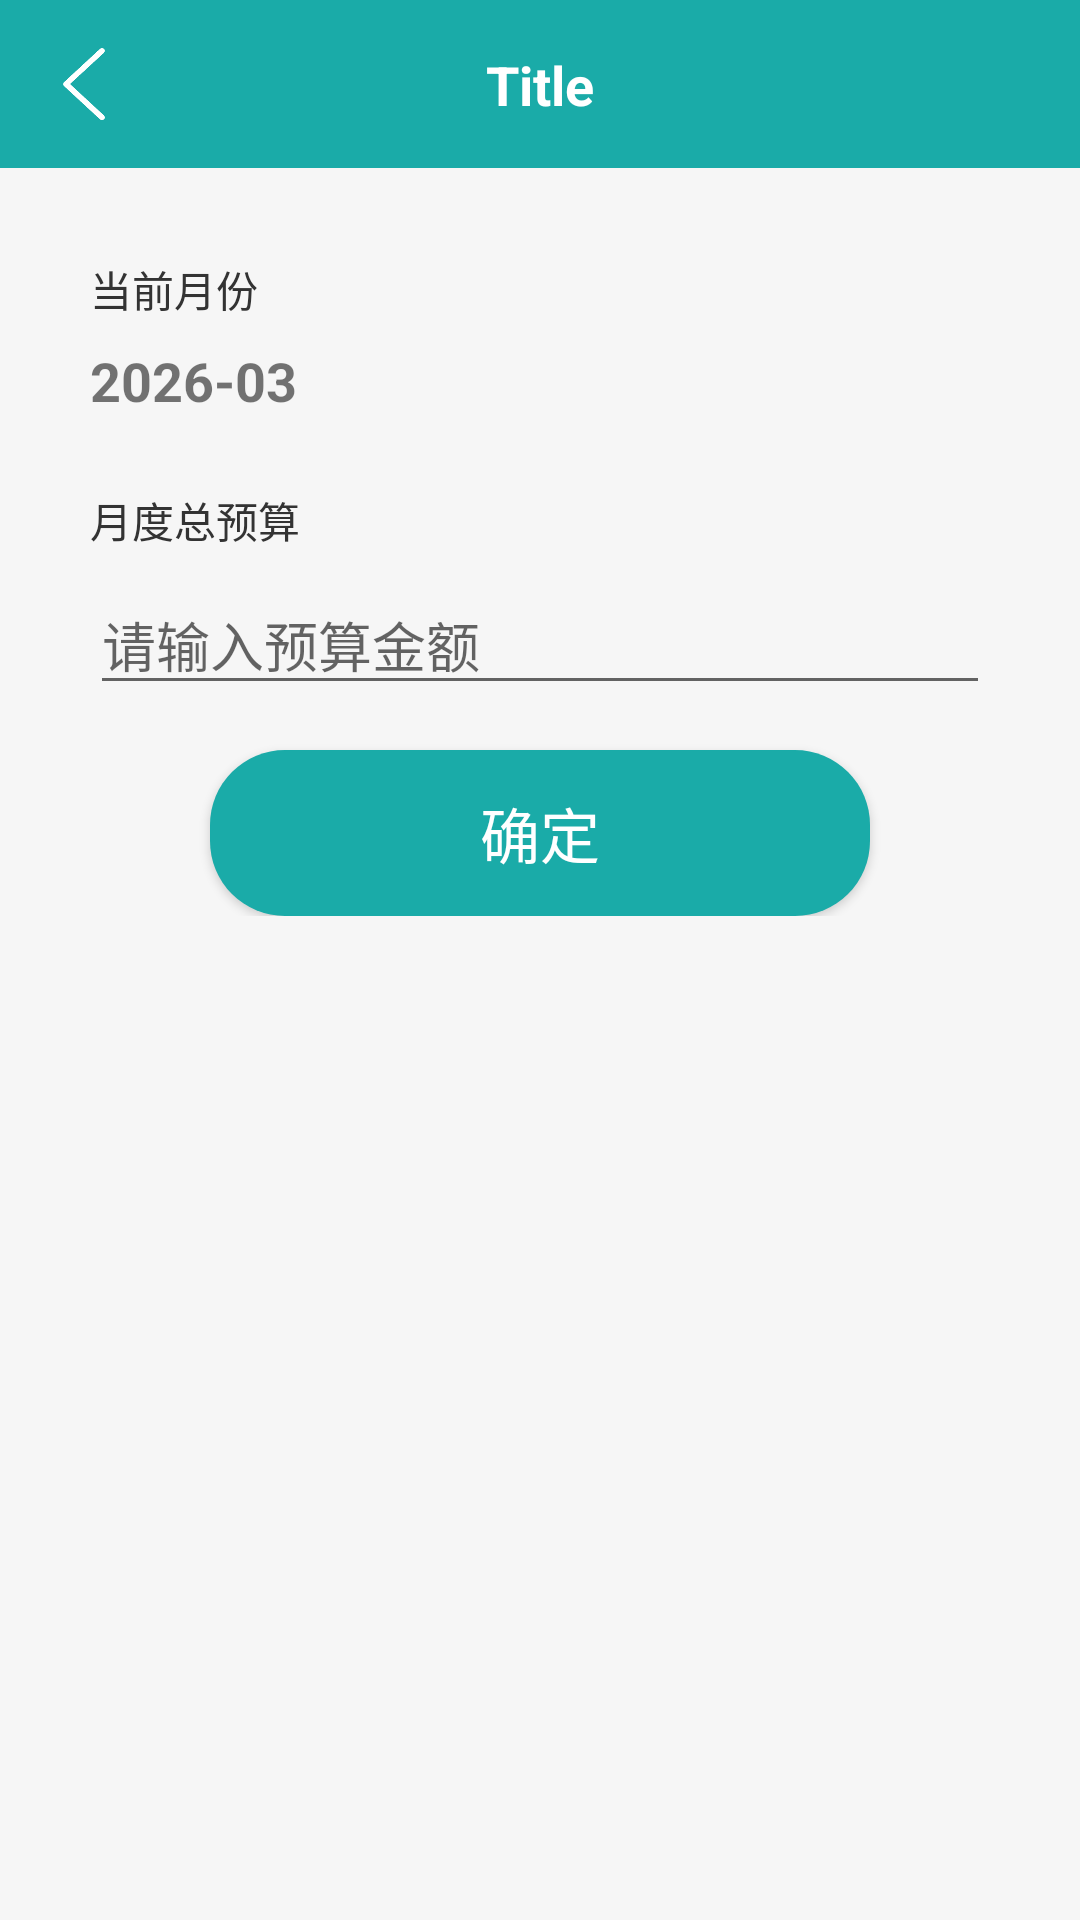

Icons on this 1080px×1920px Android screen, each with the point to tap as (x,y):
back: (84,84)
